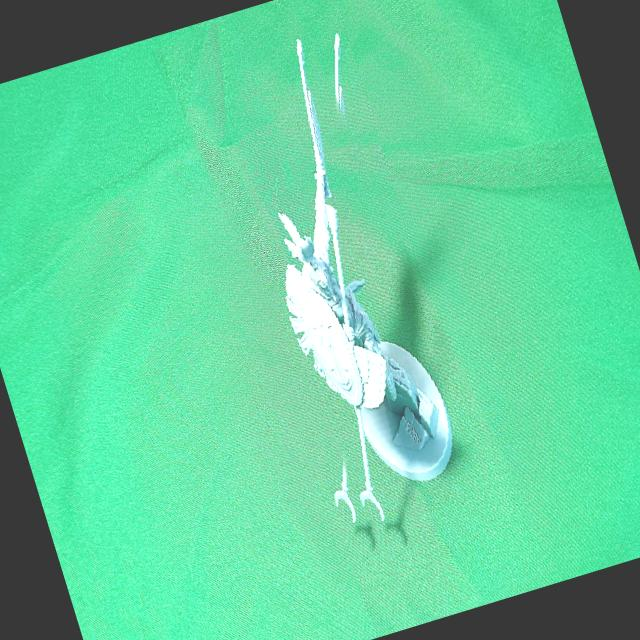isis: (167, 0, 539, 640)
